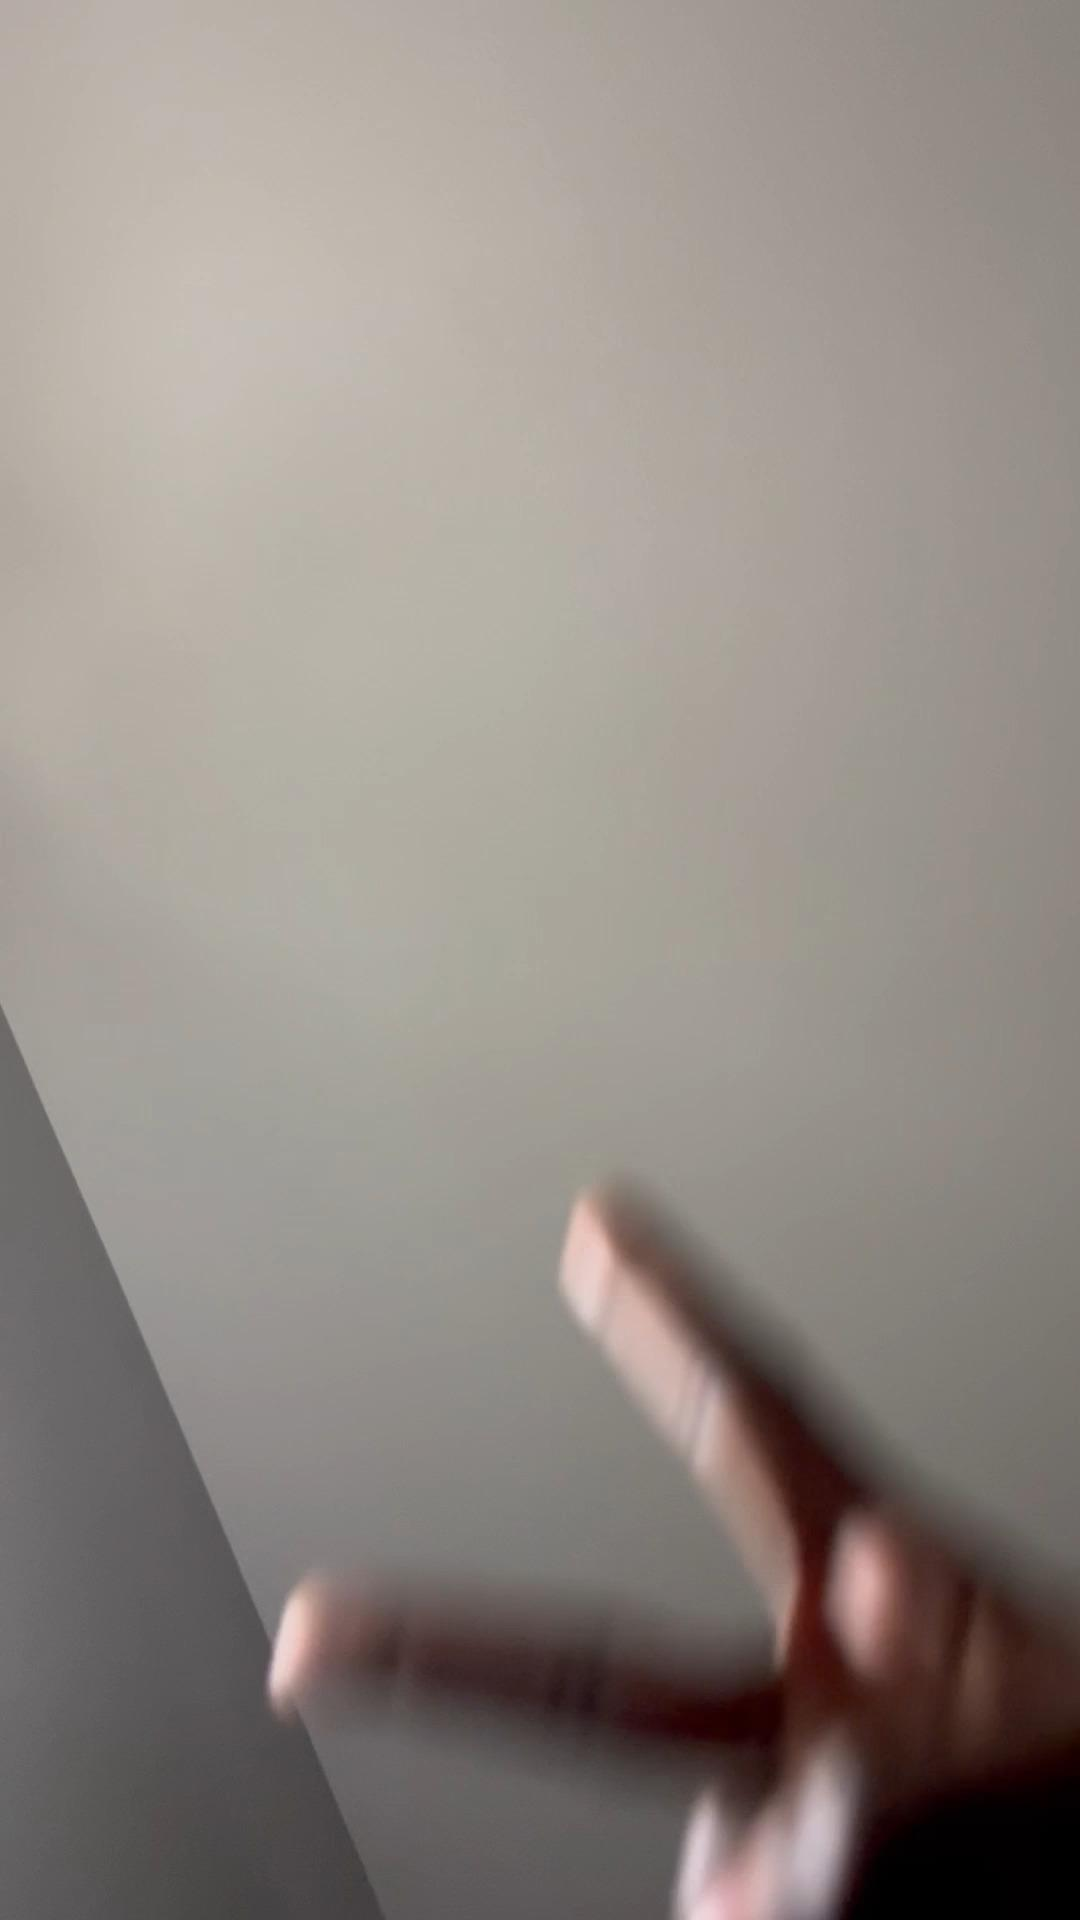Scissors: (270, 1180, 1080, 1920)
